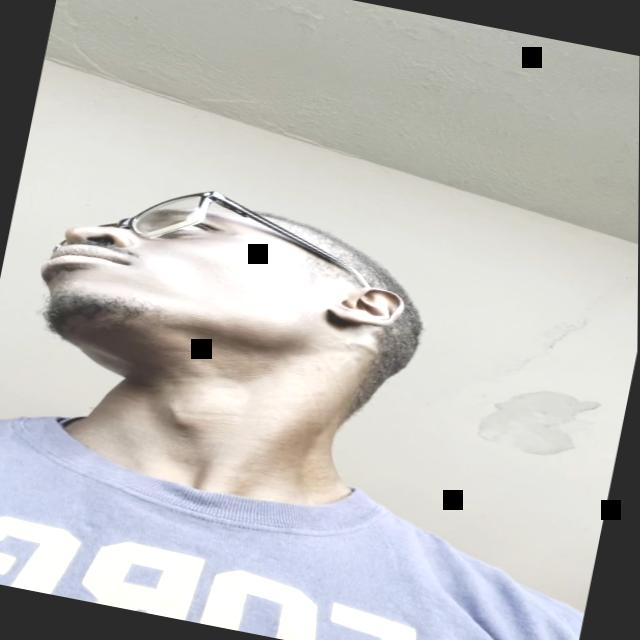NO-Mask: (9, 169, 429, 450)
